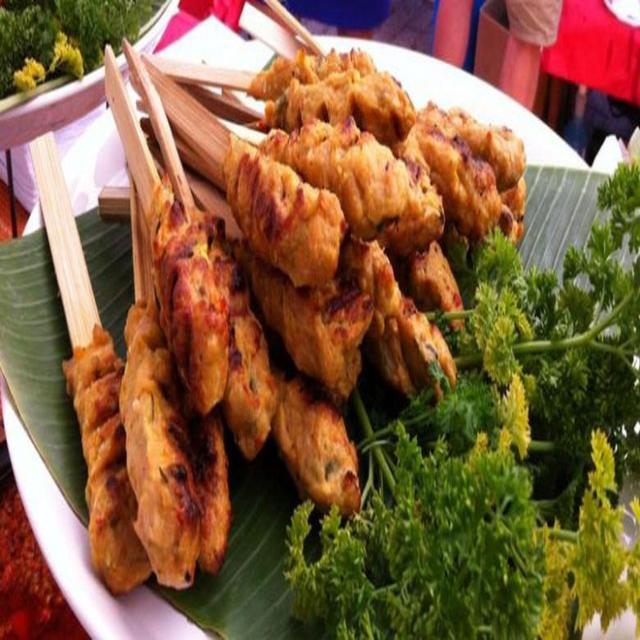Sate: (0, 0, 550, 559)
